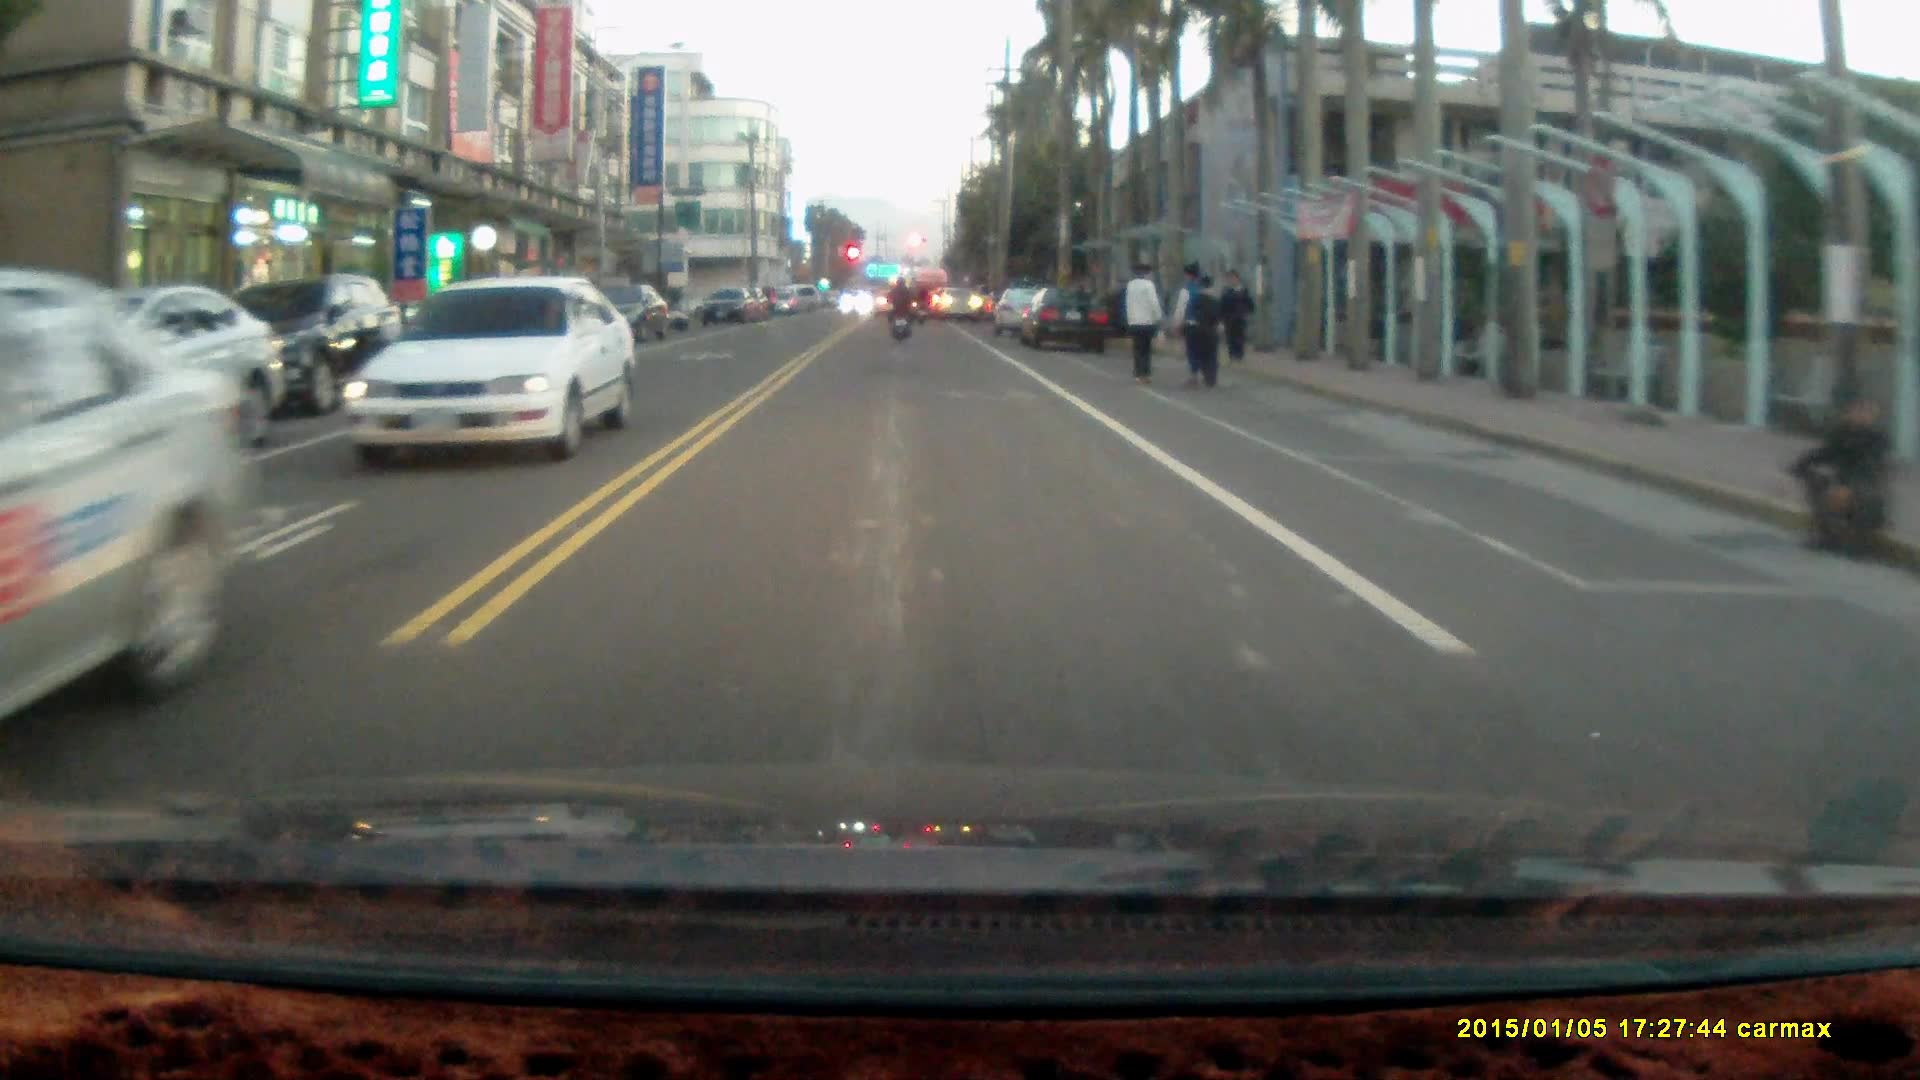pedestrian: (1788, 393, 1890, 567), (1167, 258, 1211, 389), (1121, 259, 1163, 390), (1186, 278, 1225, 396), (1220, 268, 1254, 367)
rider: (884, 273, 915, 344)
vehicle: (1, 286, 247, 745), (344, 277, 635, 456), (1022, 287, 1111, 353)
